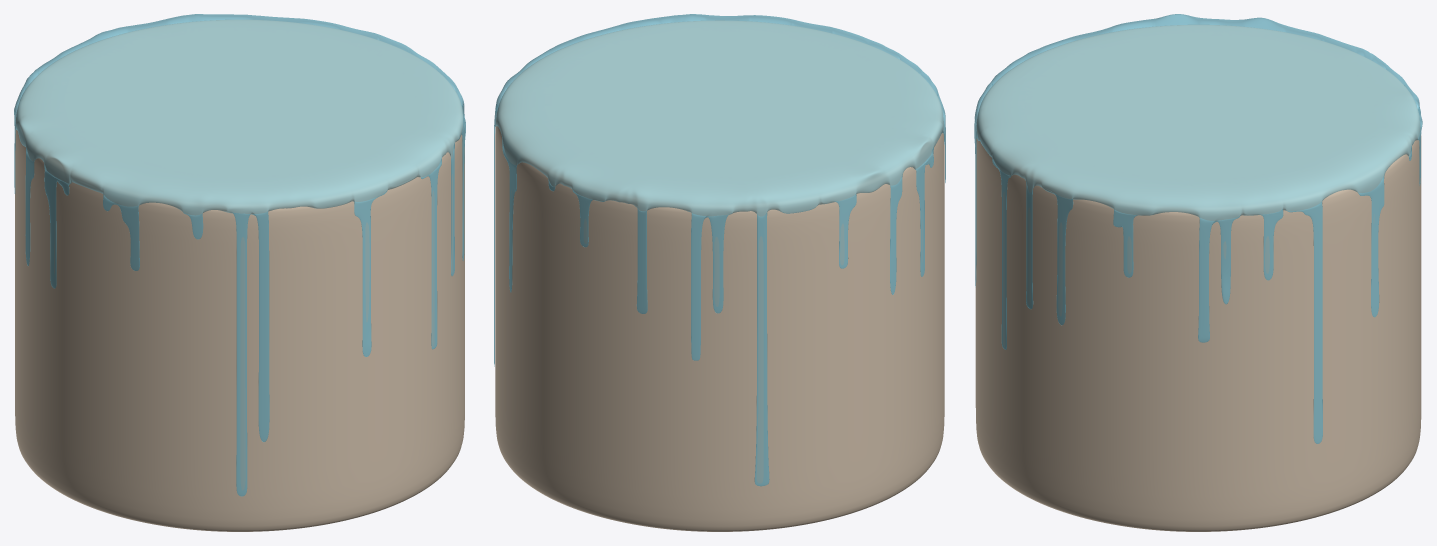
The model's file is Cake_Layer_1_Cream_BlueDrip.glb.
The picture shows the model from 3 angles, left to right: view 1: azimuth 30°, elevation 25°; view 2: azimuth 150°, elevation 25°; view 3: azimuth 270°, elevation 25°; orthographic projection.
Parts seen in each view (by area): view 1: Circle, Circle.001; view 2: Circle, Circle.001; view 3: Circle, Circle.001.
Part boxes in pixels (x1,y1,x2,y2): Circle: (15,20,464,531); Circle.001: (14,14,465,496); Circle: (495,20,944,531); Circle.001: (494,14,945,486); Circle: (975,25,1421,531); Circle.001: (974,14,1422,443).
Bounding box in the file's own units: 0.1501 × 0.1237 × 0.1499.
